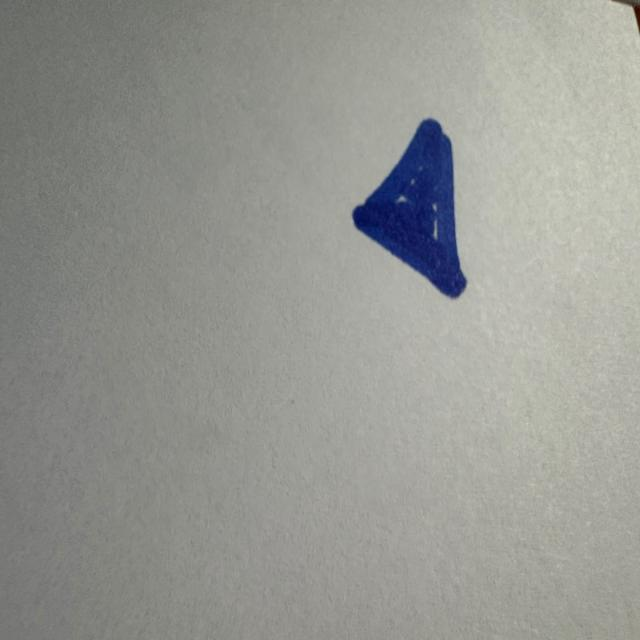Triangle: (353, 119, 466, 298)
